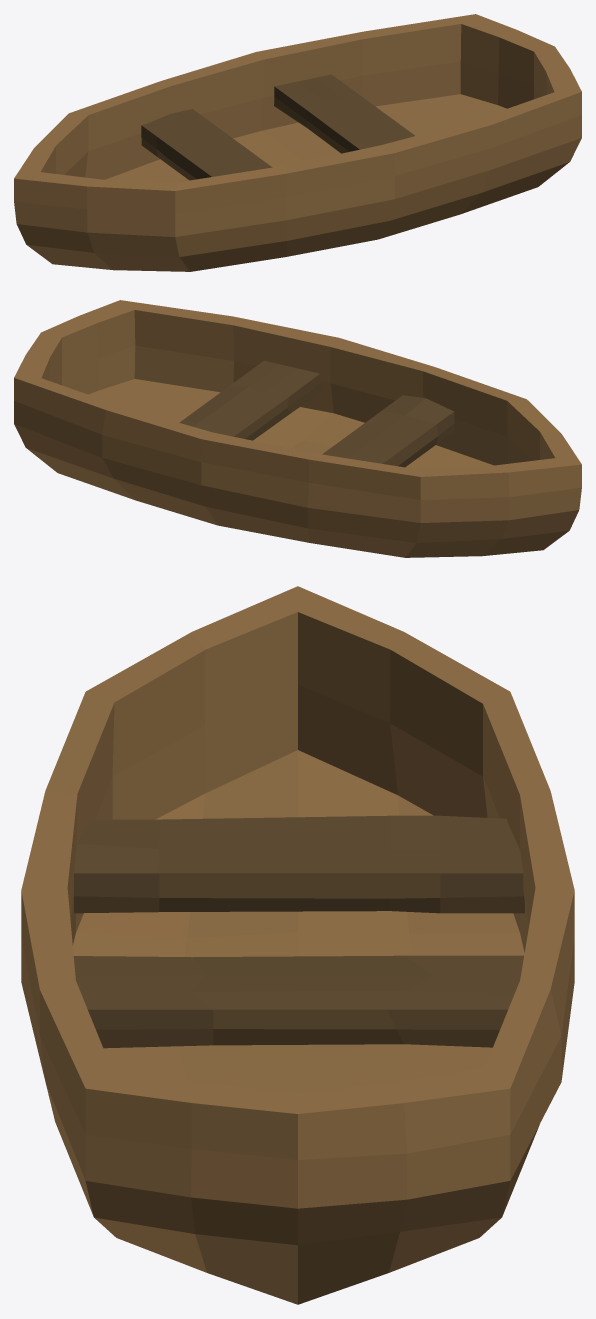
The model's file is Boot ganz.fbx.
The picture shows the model from 3 angles, top to bottom: view 1: azimuth 30°, elevation 25°; view 2: azimuth 150°, elevation 25°; view 3: azimuth 270°, elevation 25°; orthographic projection. The views are drawn at different scales.
Parts seen in each view (by area): view 1: Boot_ganz; view 2: Boot_ganz; view 3: Boot_ganz.
Boxes of the visible parts, left/top/right/bottom form: Boot_ganz: left=14, top=14, right=581, bottom=271; Boot_ganz: left=14, top=300, right=581, bottom=557; Boot_ganz: left=21, top=586, right=574, bottom=1304.
Size of the model in its own units: 856 by 171 by 378.
